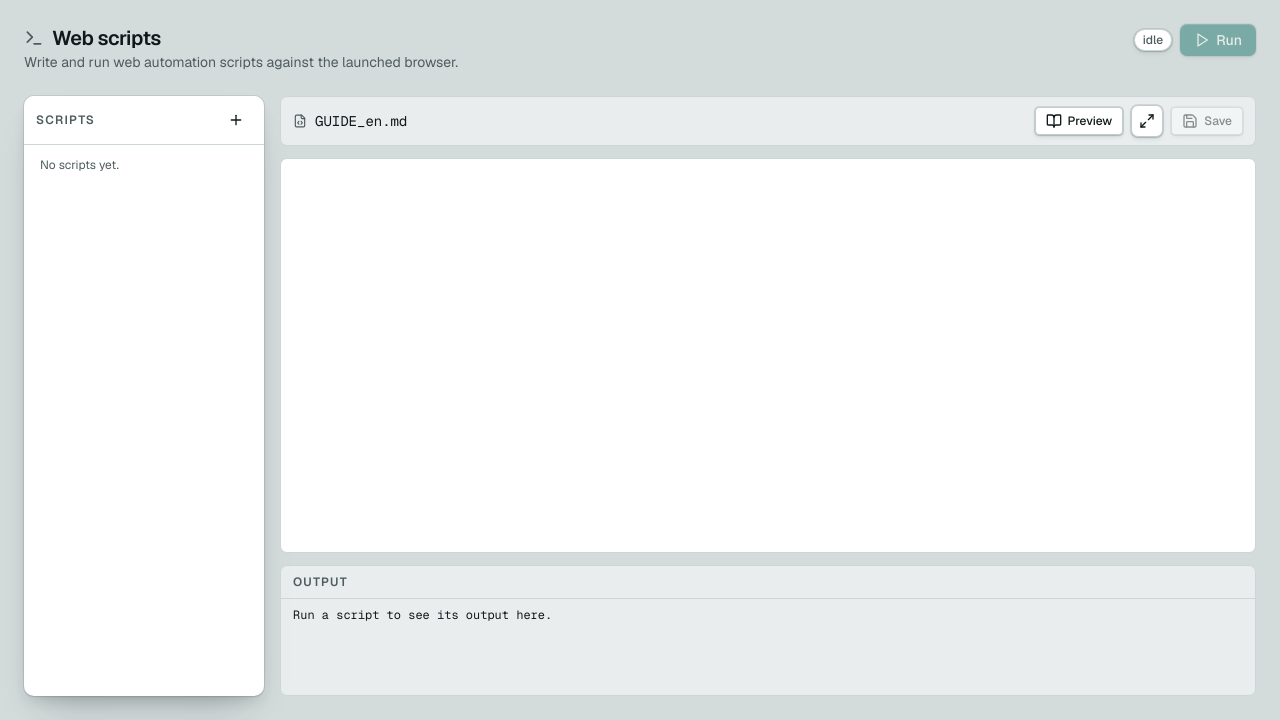
CodeEditor — a markdown file can be read as a document › goes back to the source on a second press
Click the button with test id "editor-preview-toggle": (1079, 121) [1034, 107, 1123, 135]
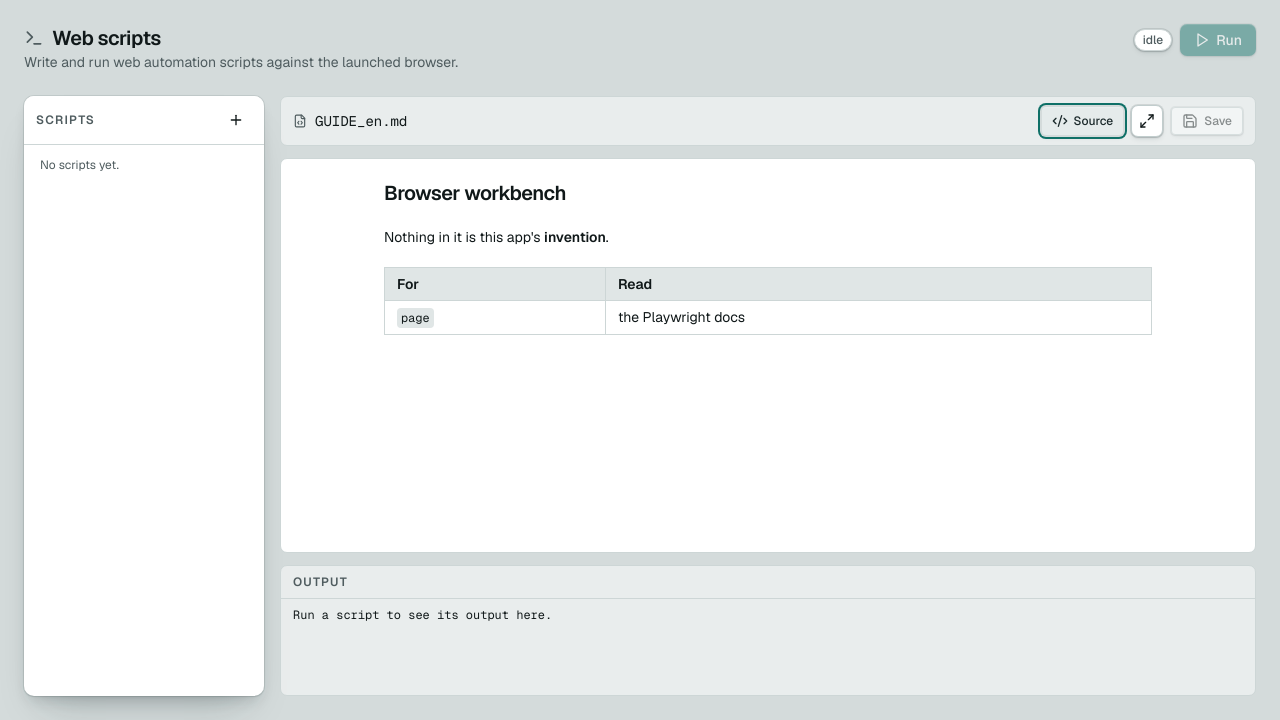
Result: the element with test id "editor-preview" is shown at [384, 180, 1152, 334]
Click the button with test id "editor-preview-toggle": (1082, 121) [1042, 107, 1123, 135]
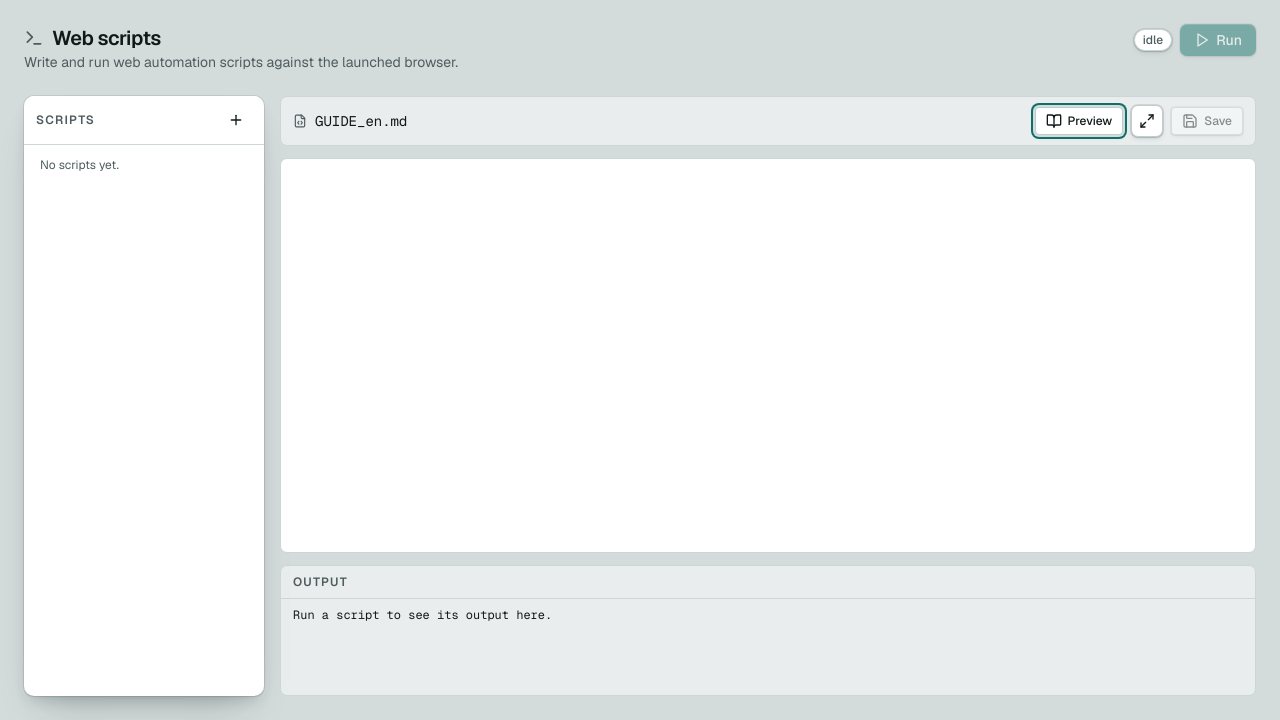
Result: the element with test id "editor-preview" is gone
